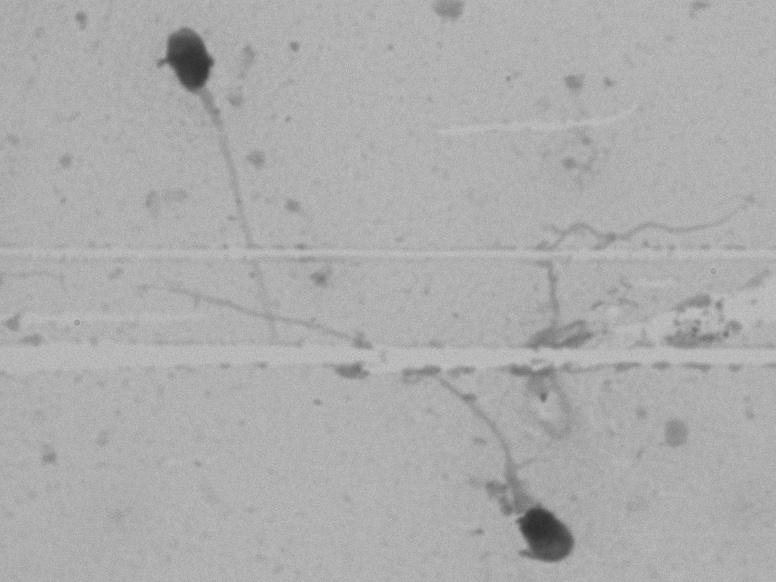Abnormal: (107, 20, 326, 321), (363, 358, 625, 572)
